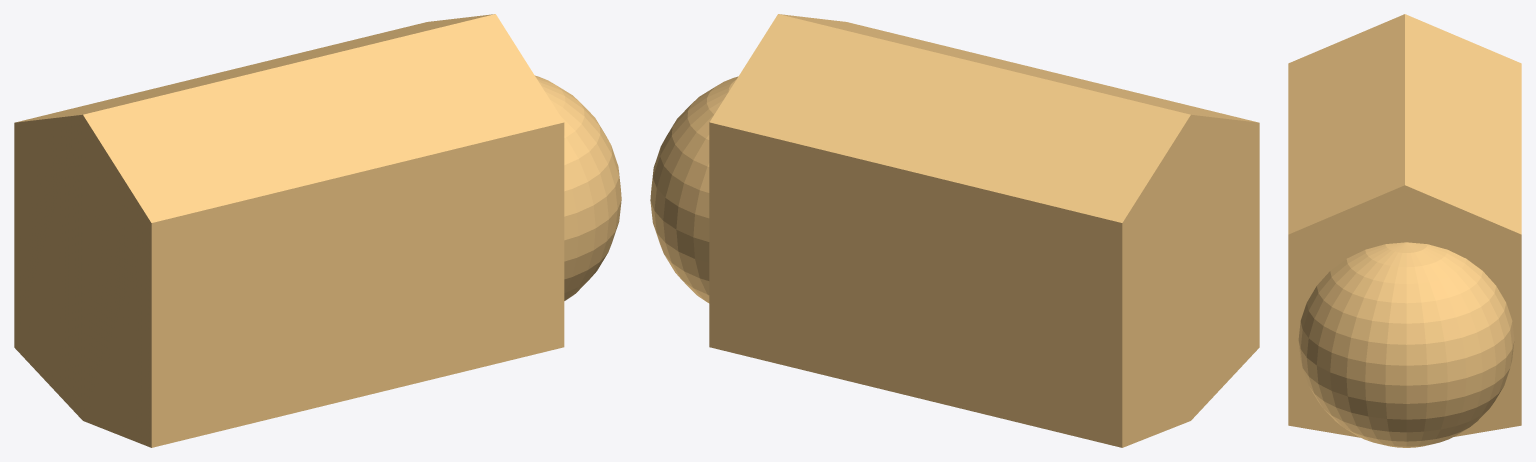
The model's file is R_finger2.obj.
The picture shows the model from 3 angles, left to right: view 1: azimuth 30°, elevation 25°; view 2: azimuth 150°, elevation 25°; view 3: azimuth 270°, elevation 25°; orthographic projection. The views are drawn at different scales.
Visible parts, largest first — view 1: finger2球.001_球.024; view 2: finger2球.001_球.024; view 3: finger2球.001_球.024.
Boxes of the visible parts, box(x1,y1,x2,y2) form: finger2球.001_球.024: box(14, 14, 621, 447); finger2球.001_球.024: box(650, 14, 1259, 447); finger2球.001_球.024: box(1288, 14, 1521, 447).
Size of the model in its own units: 0.8603 by 0.4812 by 0.391.
